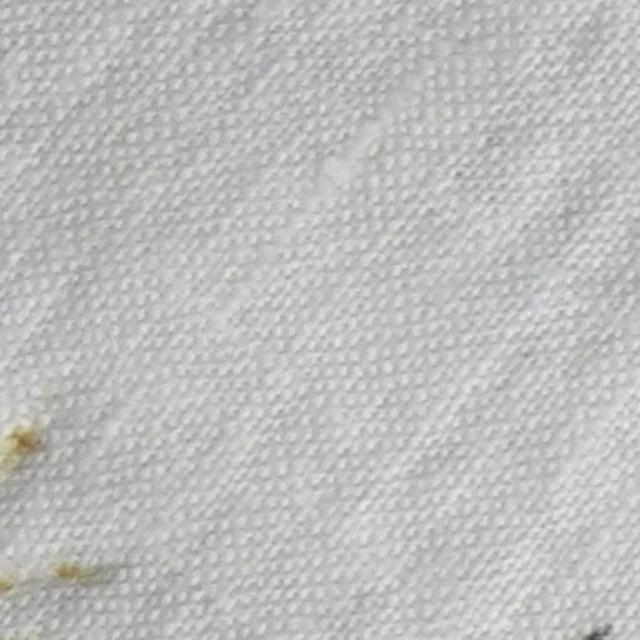Stain: (0, 558, 126, 596), (565, 625, 619, 639)
